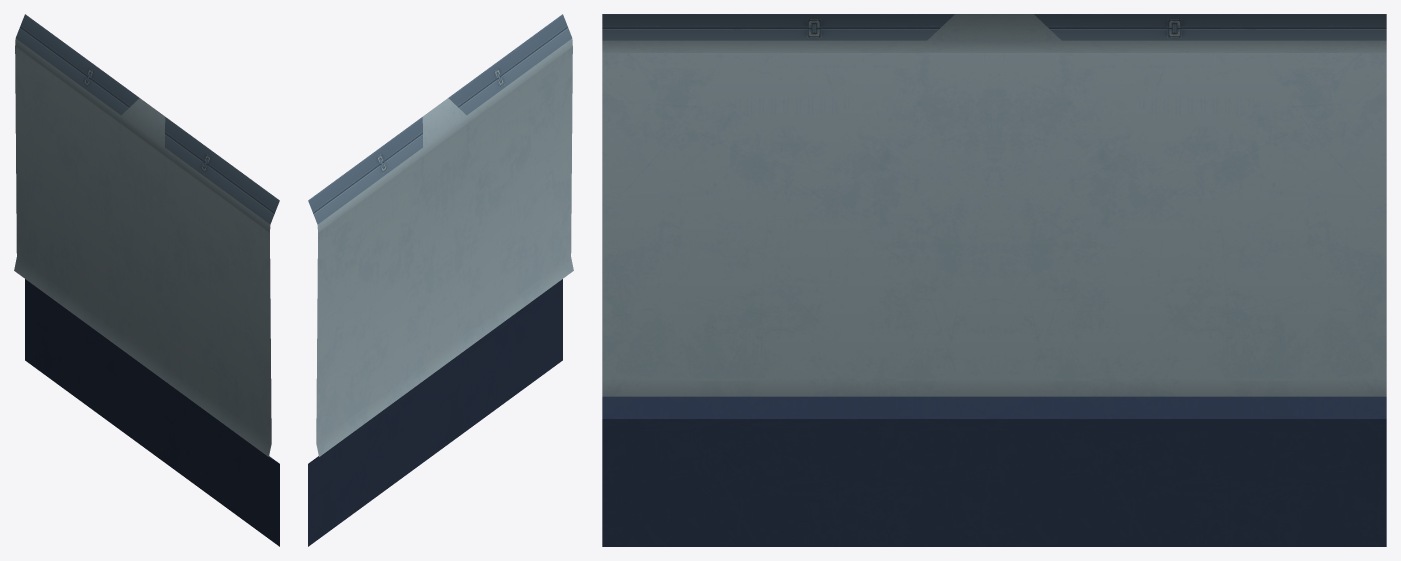
The model's file is WallAstra_Straight_Flat.gltf.
3 views of the same model, side by side, from view 1: azimuth 30°, elevation 25°; view 2: azimuth 150°, elevation 25°; view 3: azimuth 270°, elevation 25° (orthographic). The views are drawn at different scales.
Parts seen in each view (by area): view 1: WallAstra_Straight_Flat; view 2: WallAstra_Straight_Flat; view 3: WallAstra_Straight_Flat.
Boxes of the visible parts, x1,y1,x2,y2 form: WallAstra_Straight_Flat: [14, 14, 279, 546]; WallAstra_Straight_Flat: [308, 14, 573, 546]; WallAstra_Straight_Flat: [602, 14, 1386, 546].
Size of the model in its own units: 0.1 by 3 by 4.
3 materials, 3 textured.
